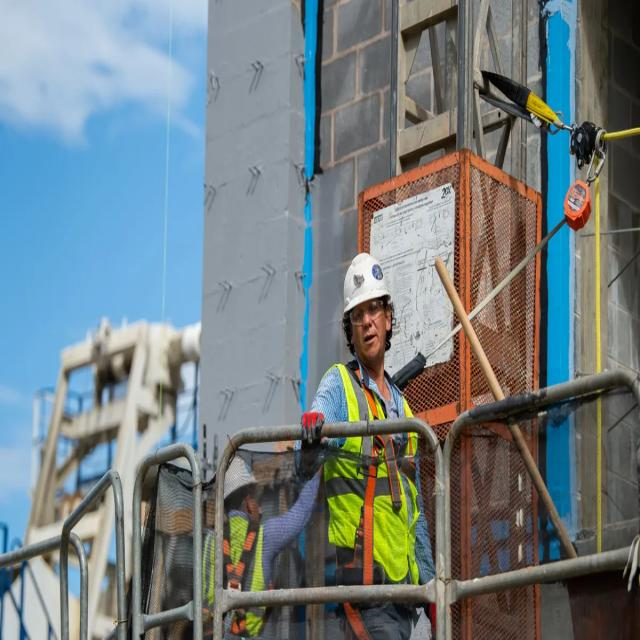Gloves: (421, 589, 446, 640), (302, 404, 325, 459)
Hard Hat: (339, 251, 394, 320), (217, 448, 260, 498)
Reflective Vest: (326, 354, 428, 583), (191, 511, 272, 640)
Safety Glasses: (347, 299, 390, 324)
